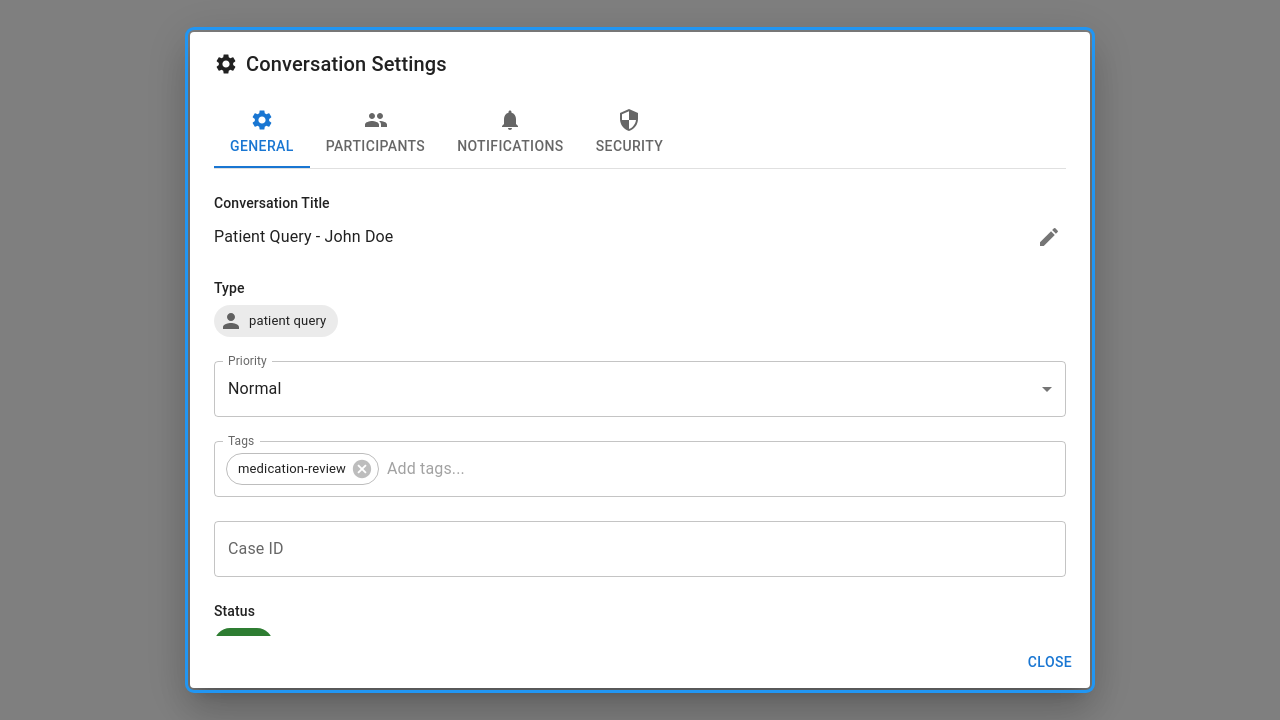
ConversationSettings › displays encryption status in security tab
What coordinates should you click on to do the following:
click the tab "Security"
I would click on:
 (629, 132)
Its box is [580,96,679,168].
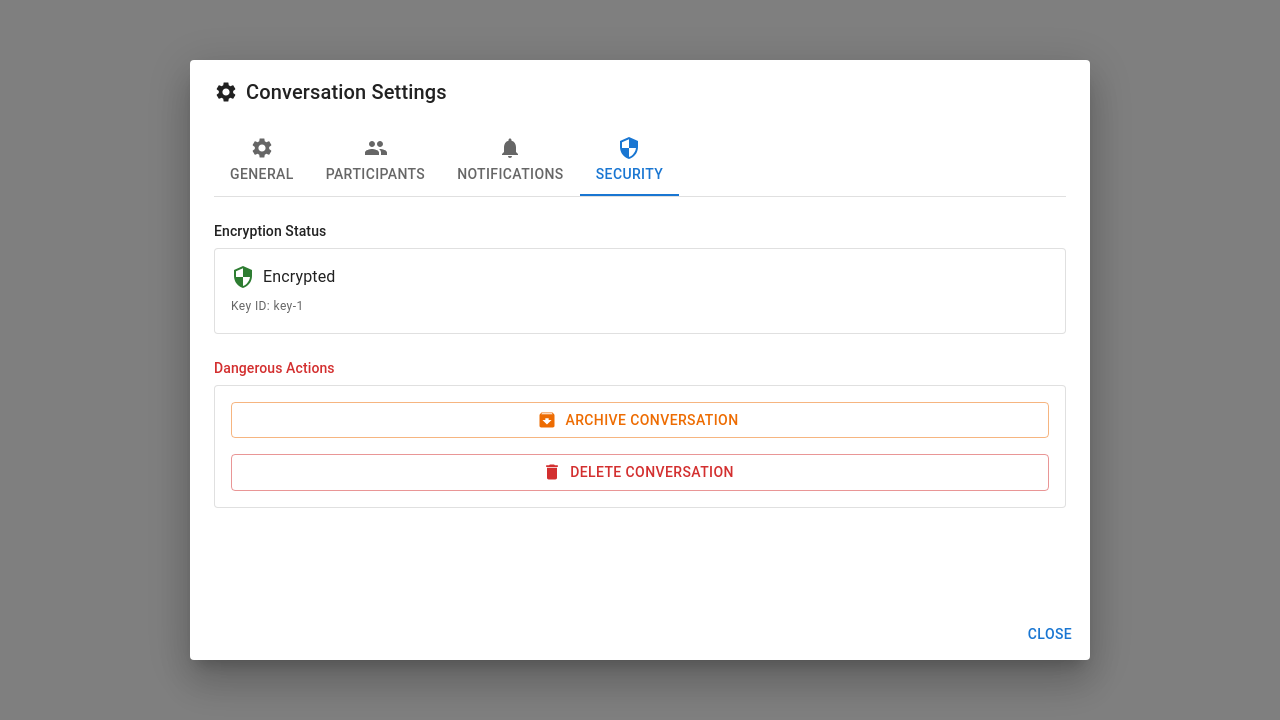
Expected: the heading "Encryption Status" is shown, [214,223,326,239]
Expected: the text "Encrypted" is shown, [263,265,336,289]
Expected: the text "Key ID: key-1" is shown, [231,299,304,313]
